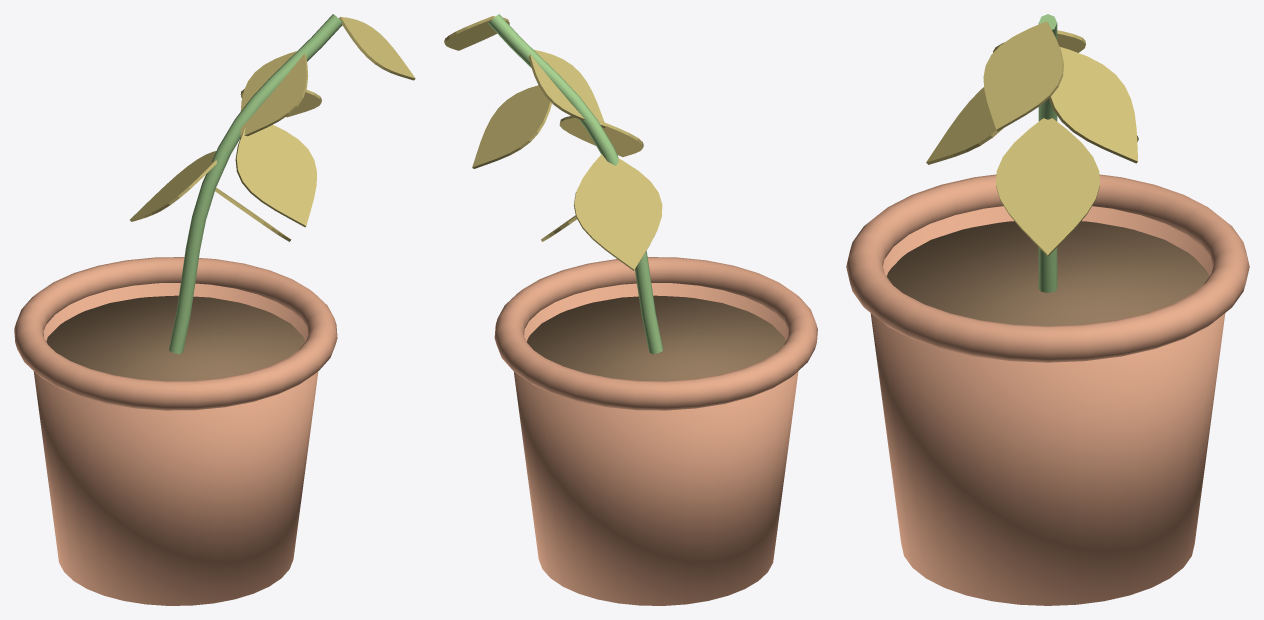
Rendered from plant_no_water.glb.
The picture shows the model from 3 angles, left to right: view 1: azimuth 30°, elevation 25°; view 2: azimuth 150°, elevation 25°; view 3: azimuth 270°, elevation 25°; orthographic projection. The views are drawn at different scales.
Parts seen in each view (by area): view 1: pot_body, pot_rim, soil, plant_leaf2, plant_stem, plant_leaf4, plant_leaf5, plant_leaf1; view 2: pot_body, pot_rim, soil, plant_leaf1, plant_stem, plant_leaf3, plant_leaf4, plant_leaf2, plant_leaf5; view 3: pot_body, pot_rim, soil, plant_leaf0, plant_leaf3, plant_leaf5, plant_leaf2, plant_stem.
Part boxes in pixels (x1=…): pot_body: x1=33, y1=283, x2=318, y2=605; pot_rim: x1=14, y1=257, x2=337, y2=410; soil: x1=46, y1=295, x2=305, y2=381; plant_leaf2: x1=235, y1=125, x2=316, y2=227; plant_stem: x1=169, y1=14, x2=342, y2=354; plant_leaf4: x1=240, y1=51, x2=308, y2=136; plant_leaf5: x1=339, y1=16, x2=415, y2=80; plant_leaf1: x1=130, y1=151, x2=216, y2=221; pot_body: x1=513, y1=283, x2=798, y2=605; pot_rim: x1=494, y1=257, x2=817, y2=410; soil: x1=527, y1=295, x2=785, y2=381; plant_leaf1: x1=574, y1=154, x2=662, y2=270; plant_stem: x1=488, y1=14, x2=663, y2=354; plant_leaf3: x1=472, y1=85, x2=551, y2=168; plant_leaf4: x1=528, y1=50, x2=605, y2=128; plant_leaf2: x1=559, y1=116, x2=643, y2=156; plant_leaf5: x1=444, y1=16, x2=509, y2=50; pot_body: x1=870, y1=206, x2=1225, y2=605; pot_rim: x1=846, y1=174, x2=1249, y2=362; soil: x1=887, y1=221, x2=1208, y2=325; plant_leaf0: x1=996, y1=118, x2=1099, y2=255; plant_leaf3: x1=1049, y1=47, x2=1138, y2=163; plant_leaf5: x1=983, y1=21, x2=1063, y2=131; plant_leaf2: x1=926, y1=87, x2=1002, y2=164; plant_stem: x1=1038, y1=14, x2=1057, y2=292.
Bounding box in the file's own units: 0.1691 × 0.226 × 0.132.
